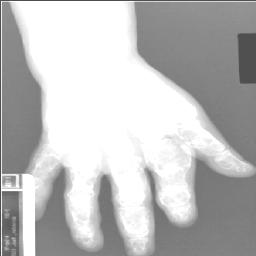cancer: (9, 0, 254, 255)
